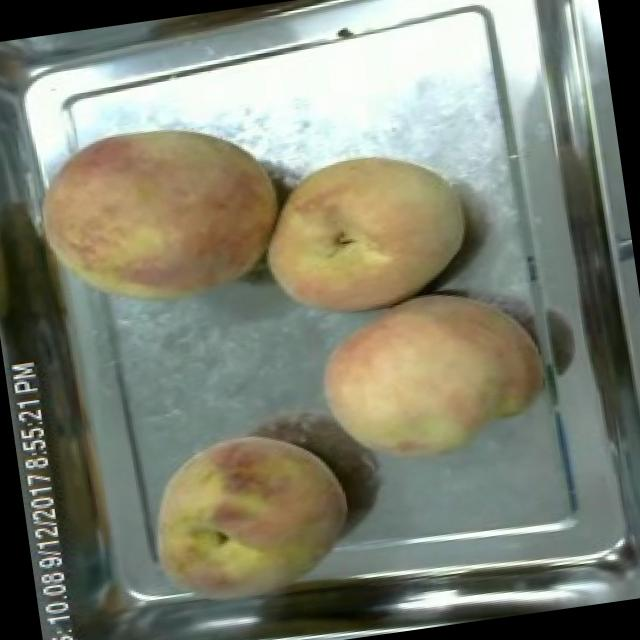Fruit: (18, 100, 299, 328), (302, 270, 558, 480), (126, 412, 366, 626), (246, 133, 484, 333)
